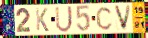2: (15, 8, 32, 34)
5: (75, 5, 92, 34)
C: (95, 5, 114, 31)
K: (35, 7, 50, 33)
U: (54, 6, 74, 34)
V: (113, 4, 132, 32)
